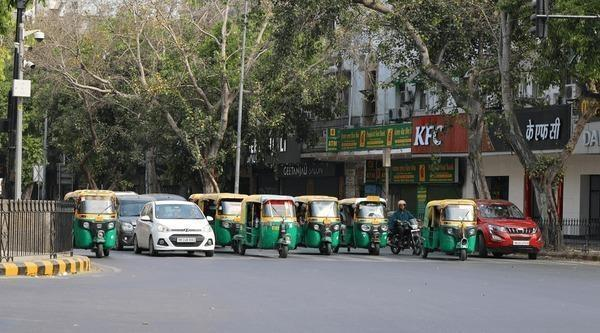keke: (61, 189, 119, 258), (240, 194, 298, 258), (424, 197, 478, 260), (339, 195, 390, 254), (296, 194, 342, 254)
